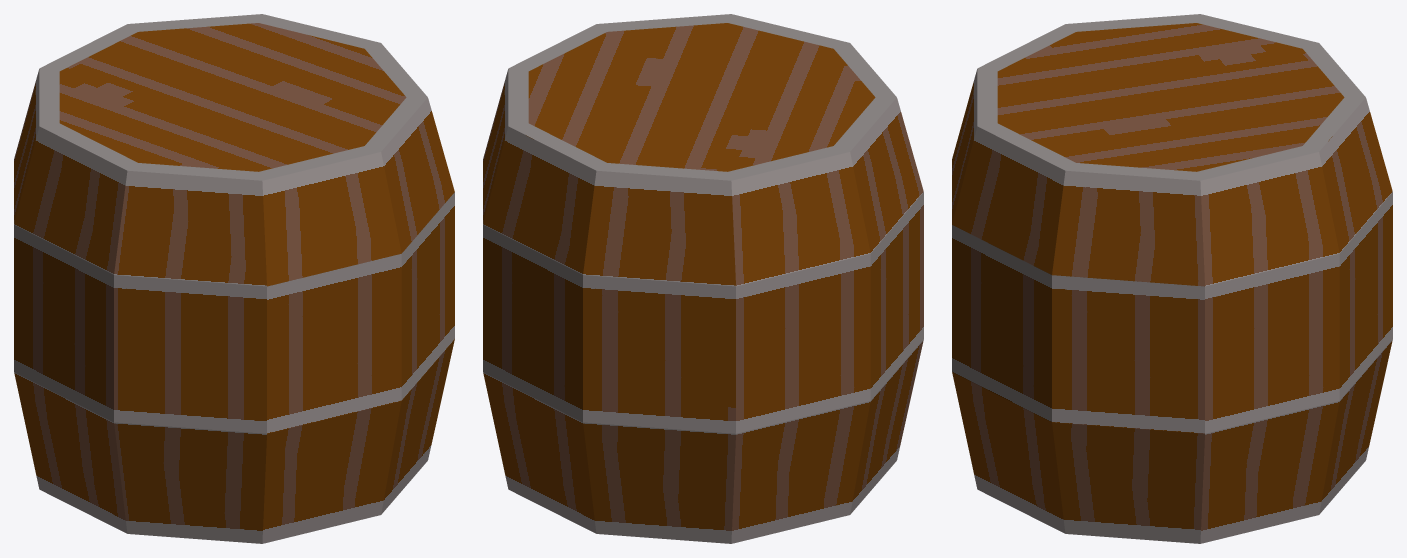
The model's file is less_terrible_barrel.fbx.
3 views of the same model, side by side, from view 1: azimuth 30°, elevation 25°; view 2: azimuth 150°, elevation 25°; view 3: azimuth 270°, elevation 25° (orthographic).
Visible parts, largest first — view 1: Barrel; view 2: Barrel; view 3: Barrel.
Part boxes in pixels (box(x1,y1,x2,y2)): Barrel: box(14, 14, 454, 543); Barrel: box(483, 14, 923, 543); Barrel: box(952, 14, 1392, 543).
Size of the model in its own units: 1.12 by 1 by 1.1.
1 material, 1 textured.
